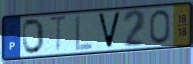2: (122, 9, 147, 50)
L: (74, 14, 94, 52)
O: (21, 17, 46, 56), (148, 8, 172, 45)
T: (48, 15, 69, 55)
V: (96, 11, 123, 50)
